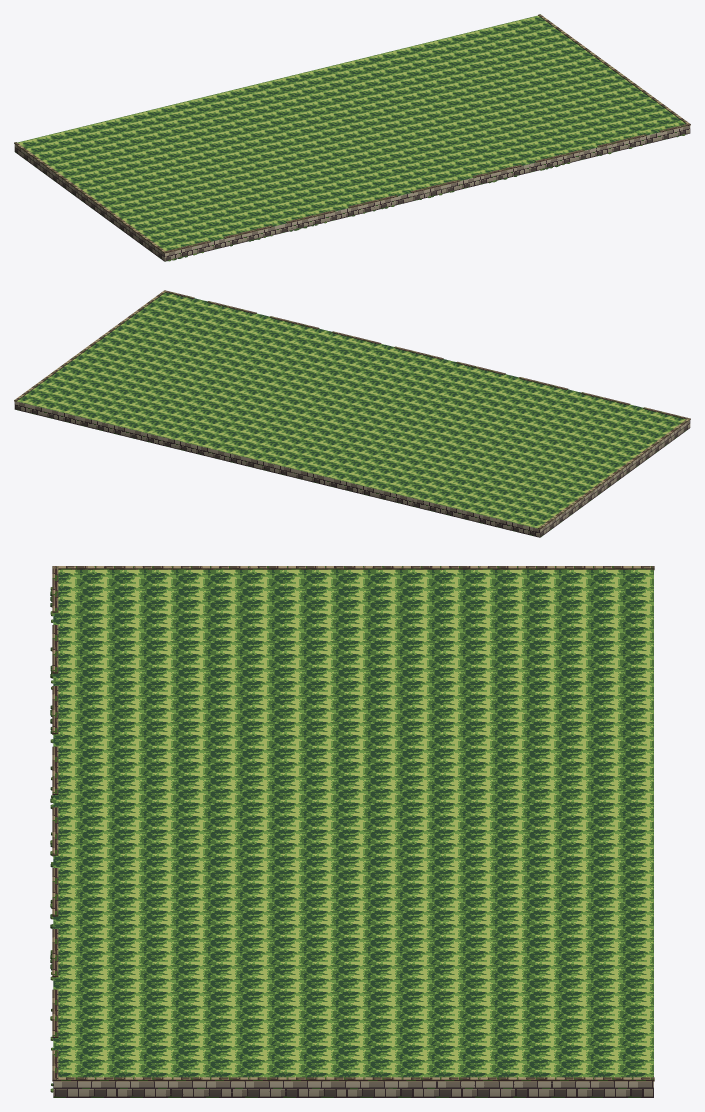
Rendered from scene_root_ledge.glb.
3 views of the same model, one above another, from view 1: azimuth 30°, elevation 25°; view 2: azimuth 150°, elevation 25°; view 3: azimuth 270°, elevation 25° (orthographic). The views are drawn at different scales.
Visible parts, largest first — view 1: scene_root_ledge; view 2: scene_root_ledge; view 3: scene_root_ledge.
Part boxes in pixels (x1=…): scene_root_ledge: x1=14, y1=14, x2=690, y2=261; scene_root_ledge: x1=14, y1=290, x2=690, y2=537; scene_root_ledge: x1=50, y1=566, x2=654, y2=1097.
Bounding box in the file's own units: 76.1 × 1.37 × 37.84.
3 materials, 2 textured.
